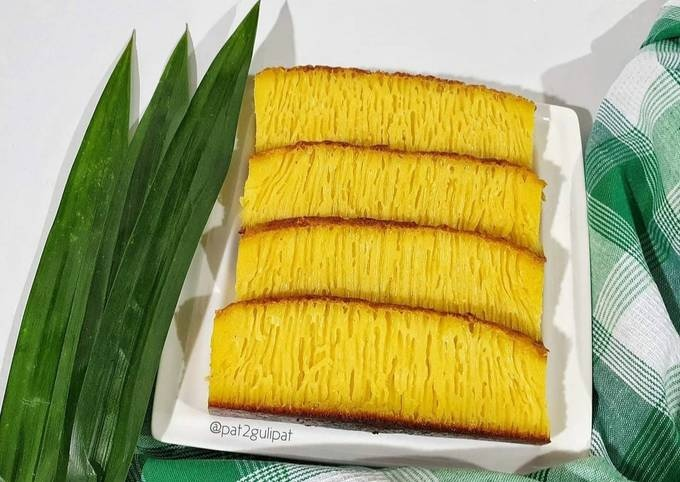bika_ambon: (182, 291, 549, 440), (223, 218, 548, 344), (247, 56, 548, 176)
